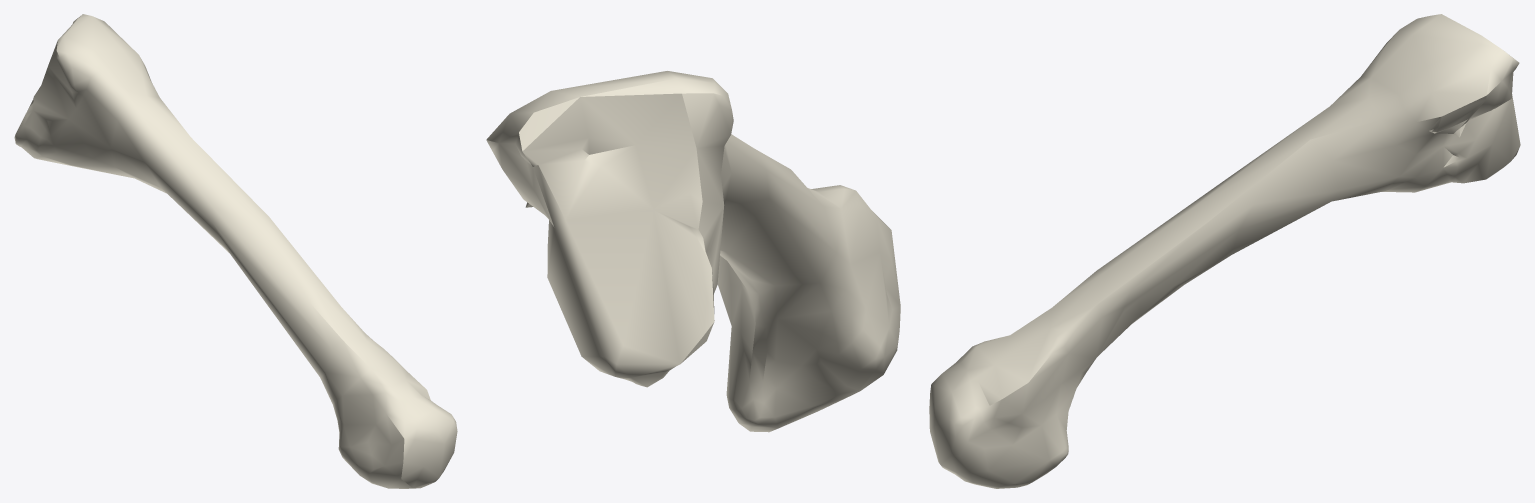
Rendered from fma24510_fj6355.glb.
3 views of the same model, side by side, from view 1: azimuth 30°, elevation 25°; view 2: azimuth 150°, elevation 25°; view 3: azimuth 270°, elevation 25° (orthographic). The views are drawn at different scales.
Parts seen in each view (by area): view 1: FMA24510_FJ6355; view 2: FMA24510_FJ6355; view 3: FMA24510_FJ6355.
Boxes of the visible parts, left/top/right/bottom form: FMA24510_FJ6355: left=14, top=14, right=457, bottom=488; FMA24510_FJ6355: left=486, top=71, right=900, bottom=432; FMA24510_FJ6355: left=929, top=14, right=1520, bottom=488.
Bounding box in the file's own units: 0.0309 × 0.0476 × 0.0649.
